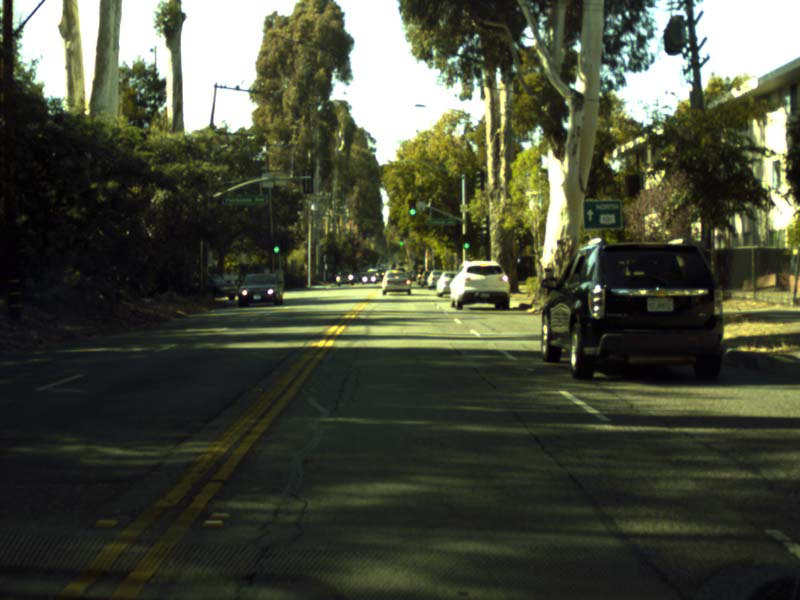Green: (272, 234, 281, 253), (408, 199, 416, 215), (462, 236, 469, 249), (399, 236, 403, 245)
